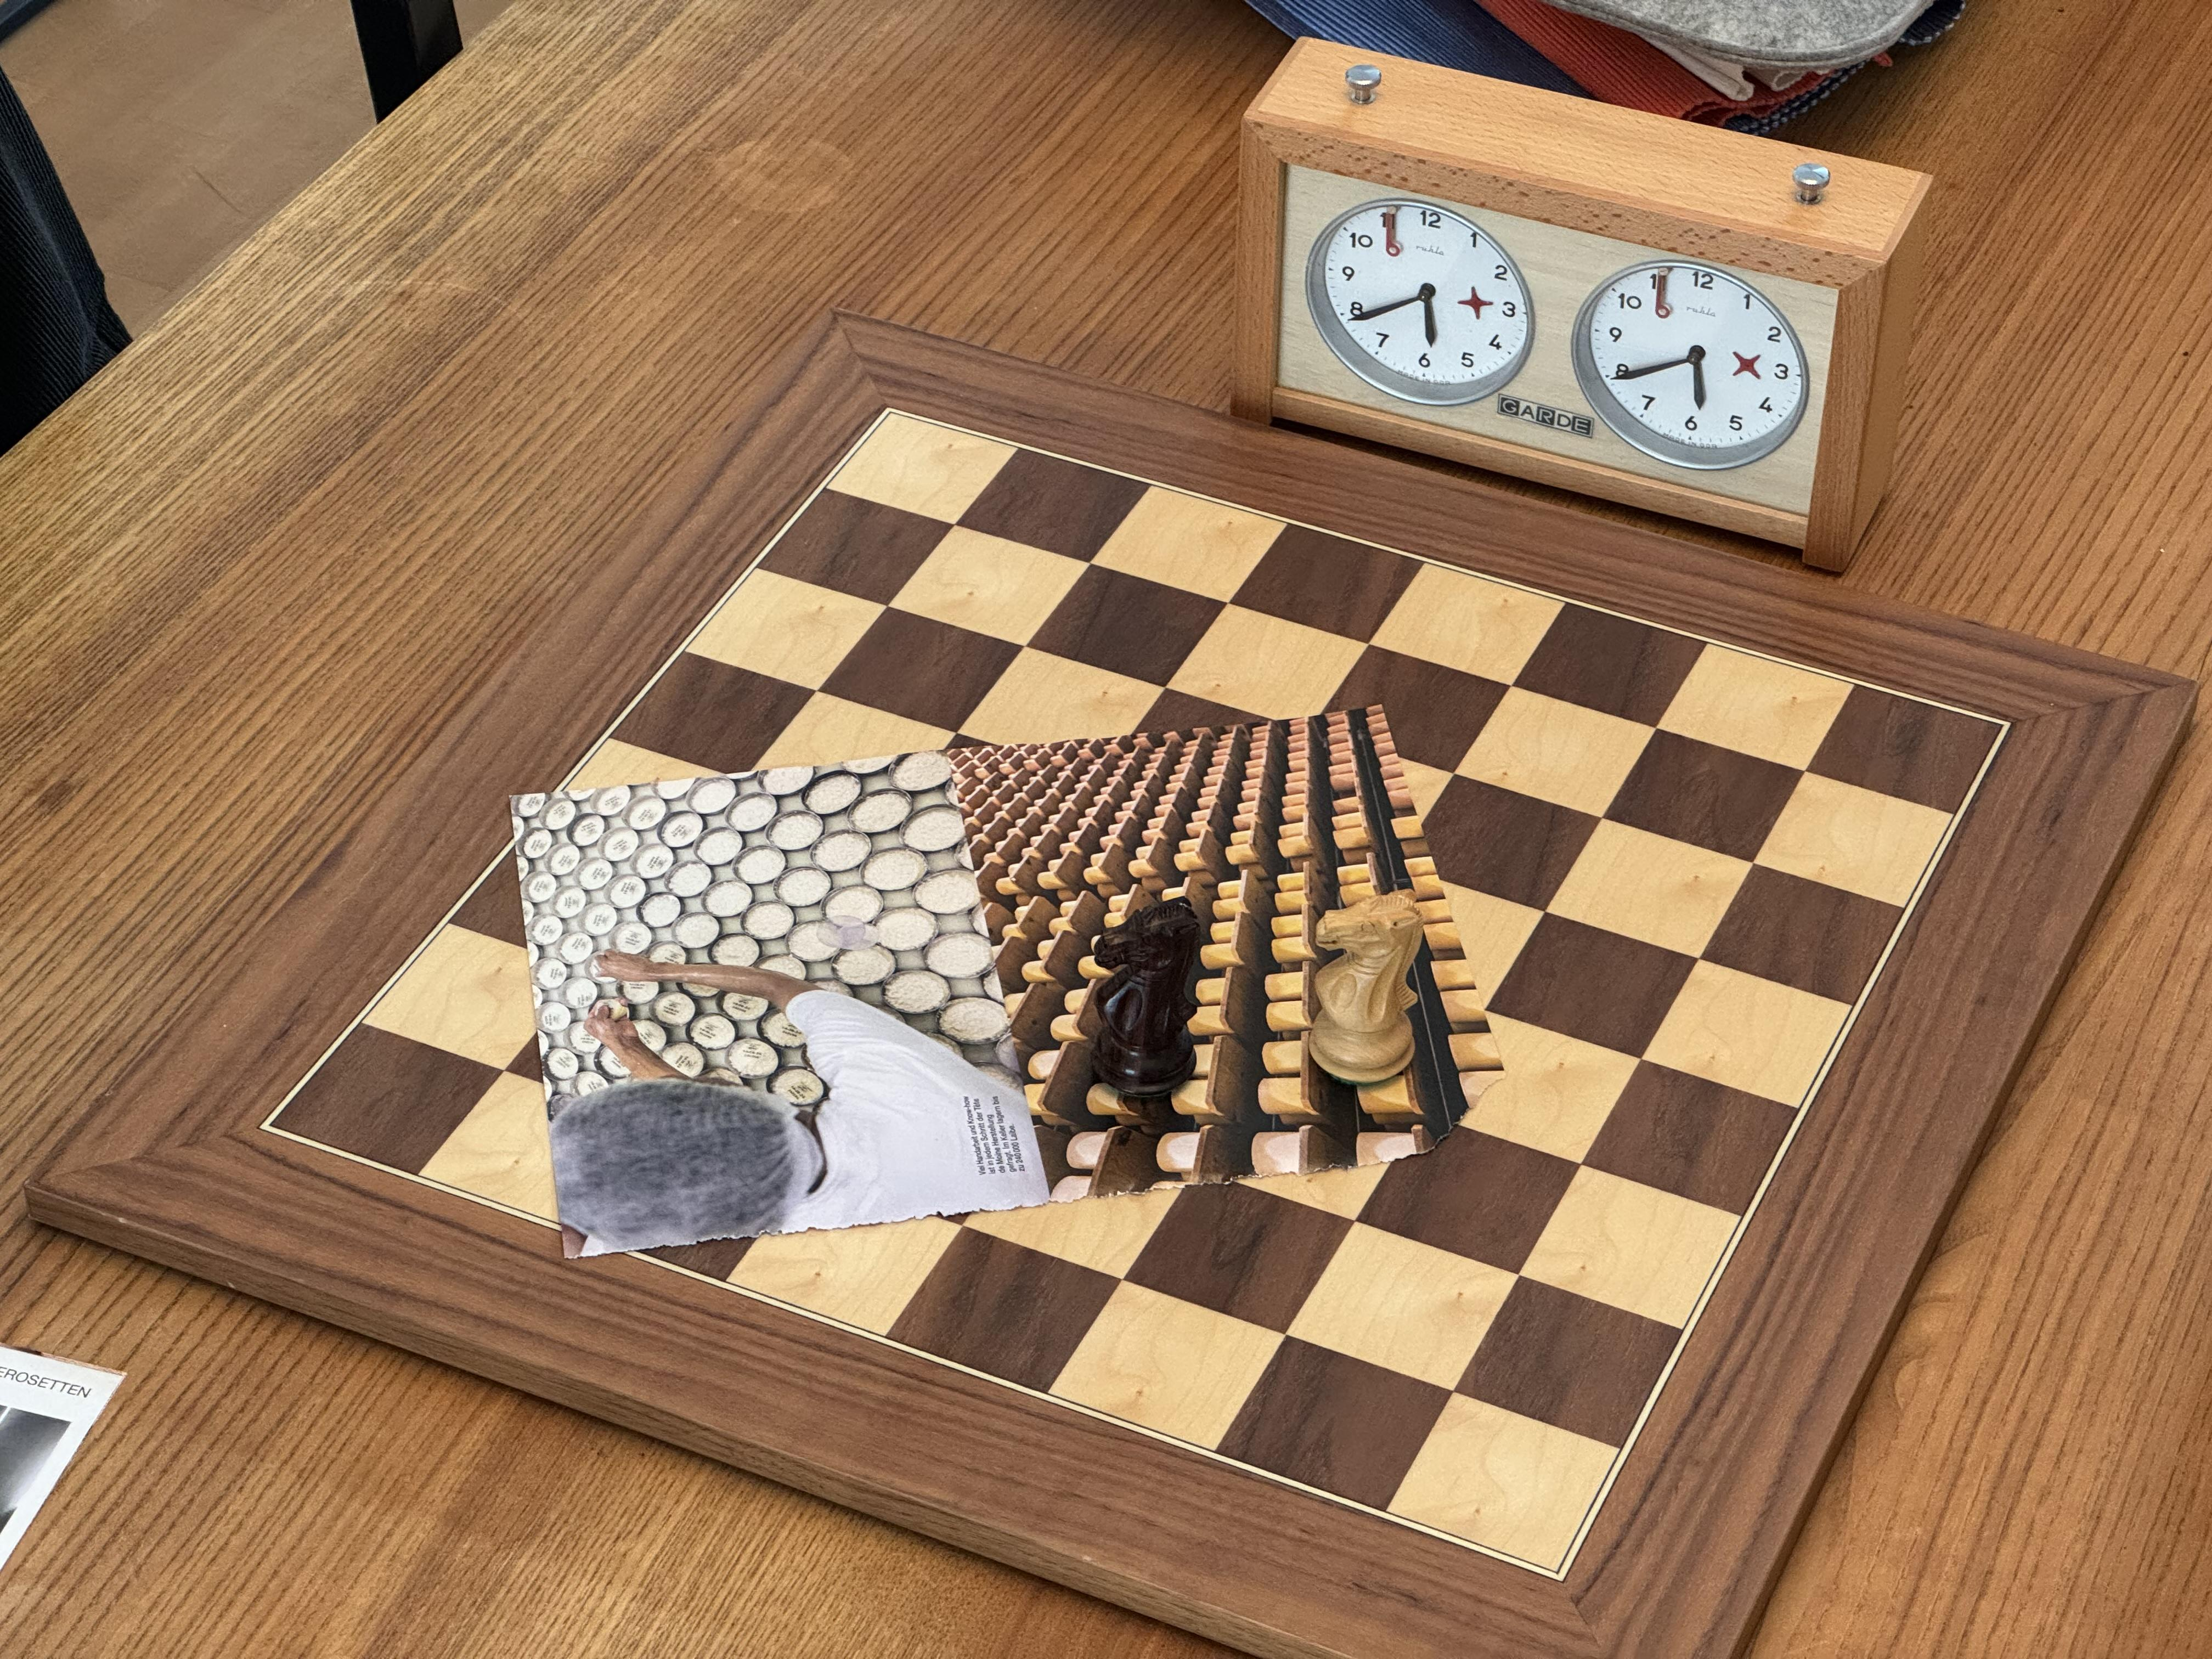Black Knight: (1084, 892, 1206, 1100)
White Knight: (1302, 884, 1429, 1090)
